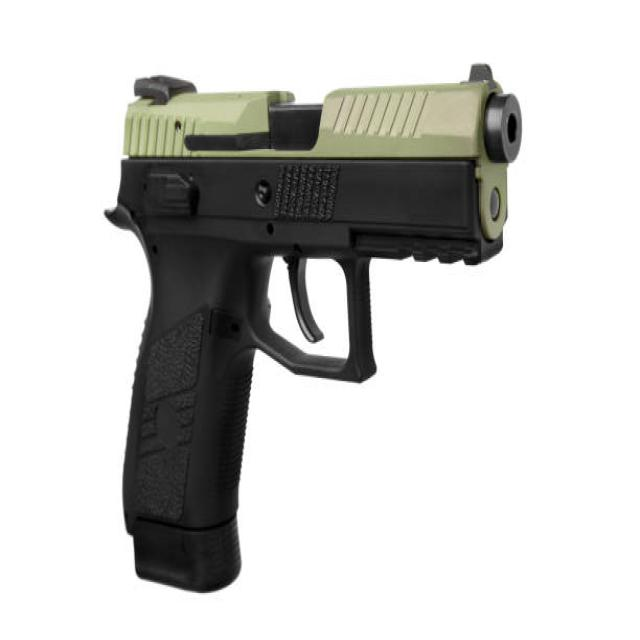pistol: (98, 50, 531, 600)
